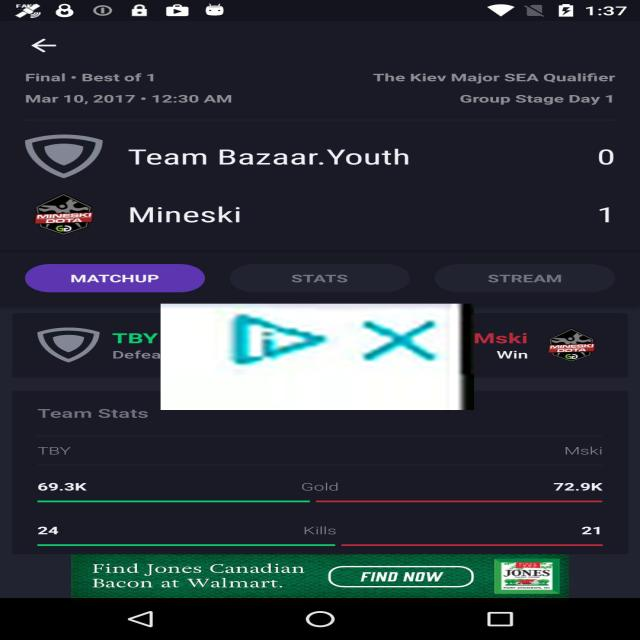sneaking: (161, 304, 474, 410)
